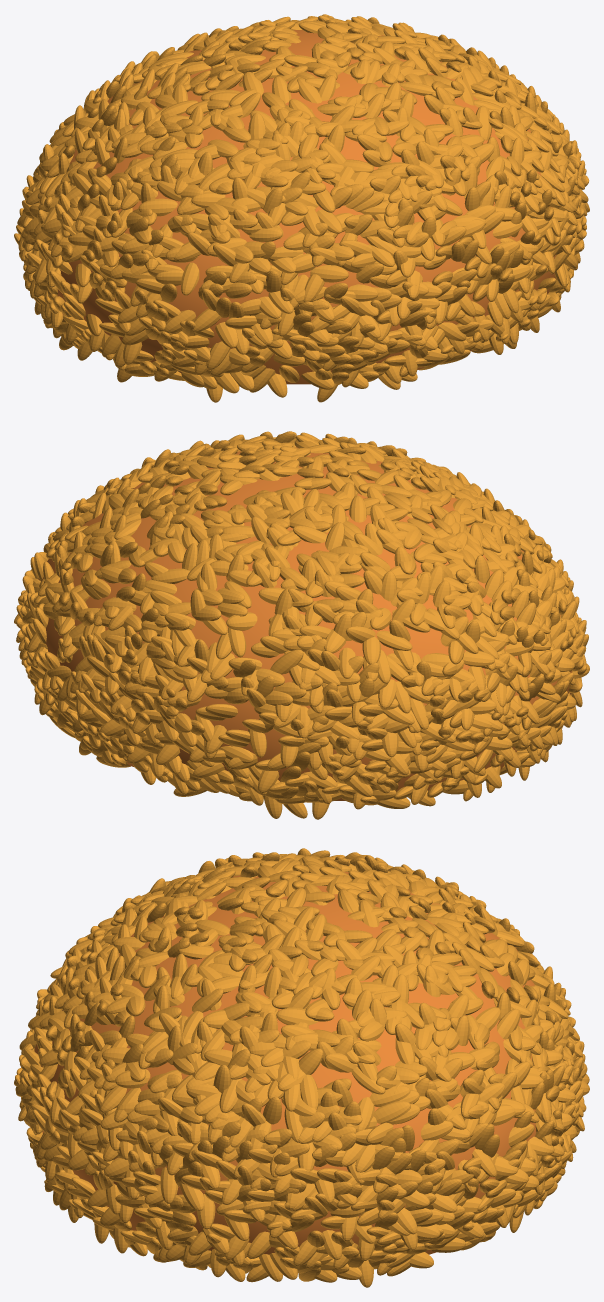
The model's file is arrozcoco.glb.
3 renders of one model, top to bottom at view 1: azimuth 30°, elevation 25°; view 2: azimuth 150°, elevation 25°; view 3: azimuth 270°, elevation 25°, orthographic. The views are drawn at different scales.
Parts seen in each view (by area): view 1: arroz coco, arroz 2; view 2: arroz coco; view 3: arroz coco.
Part boxes in pixels (<box>): arroz coco: <box>57,30,563,384</box>; arroz 2: <box>310,265,348,282</box>; arroz coco: <box>38,447,572,800</box>; arroz coco: <box>34,871,536,1264</box>.
Size of the model in its own units: 2.63 by 1.23 by 2.34.
